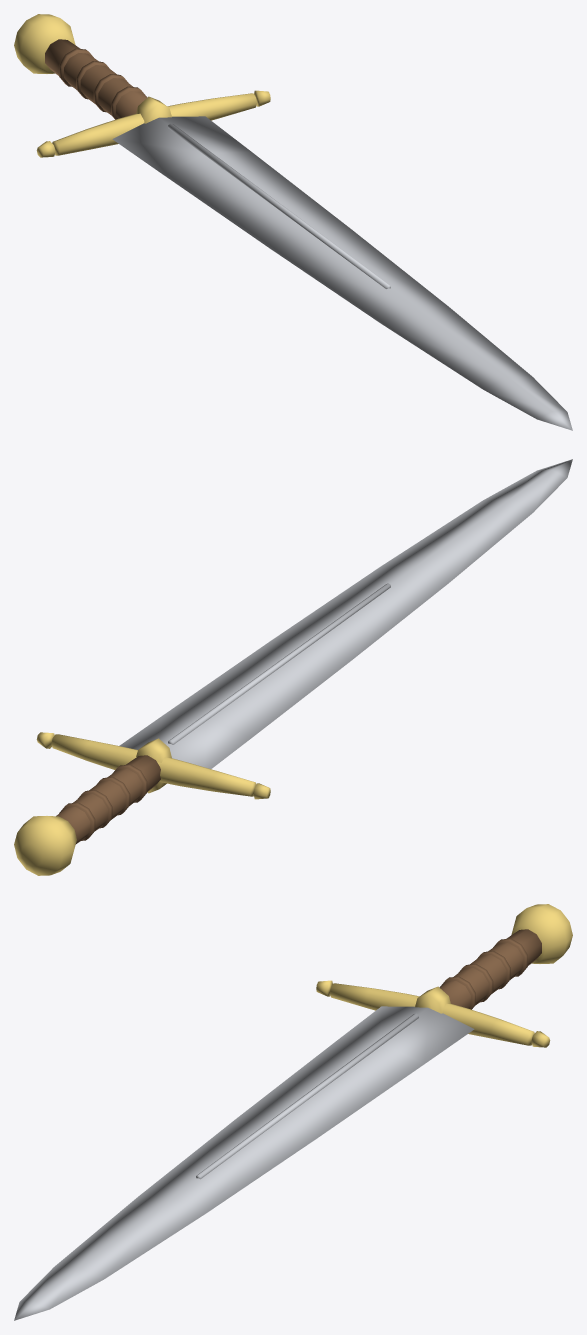
File: PaladinHealer_Sword.fbx
3 views of the same model, one above another, from view 1: azimuth 30°, elevation 25°; view 2: azimuth 150°, elevation 25°; view 3: azimuth 330°, elevation 25° (orthographic).
Parts seen in each view (by area): view 1: PaladinHealer_Sword; view 2: PaladinHealer_Sword; view 3: PaladinHealer_Sword.
Boxes of the visible parts, left/top/right/bottom form: PaladinHealer_Sword: left=14, top=14, right=572, bottom=430; PaladinHealer_Sword: left=14, top=459, right=572, bottom=875; PaladinHealer_Sword: left=14, top=904, right=572, bottom=1320.
Size of the model in its own units: 0.2558 by 0.06 by 1.04.
